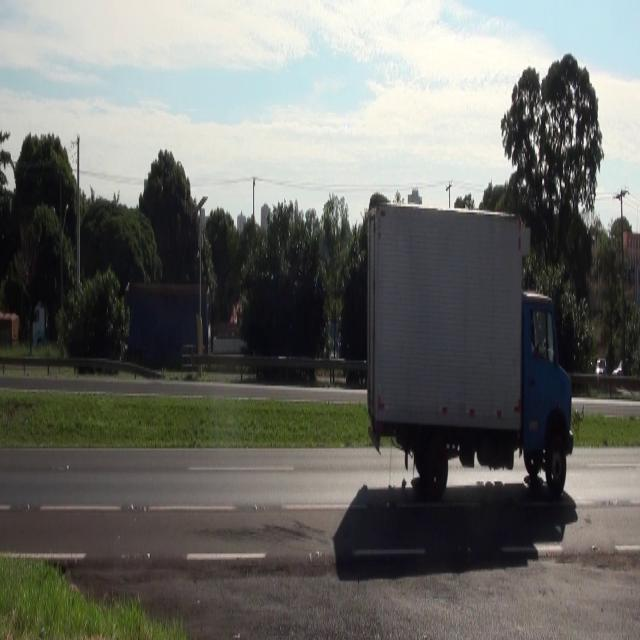-axle: (421, 432, 448, 509), (544, 429, 568, 494)
